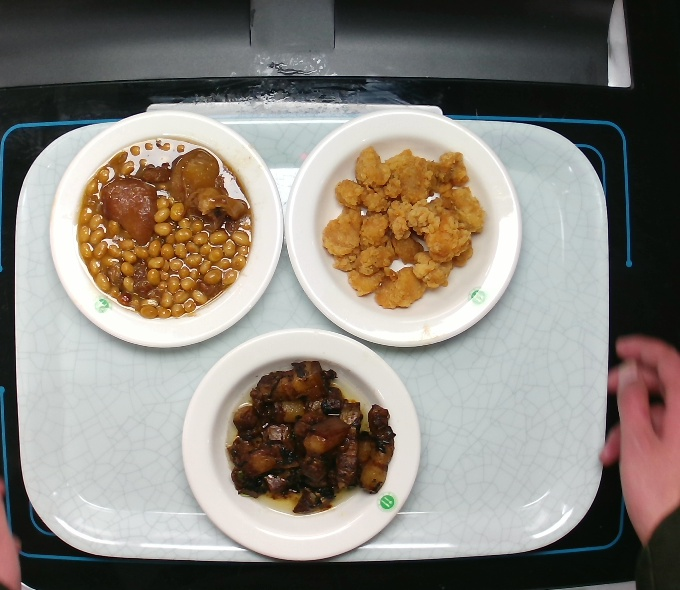wcq-GanCaiRou: (225, 355, 399, 519)
wcq-HuangDouZhuJiao: (70, 133, 263, 324)
wcq-JiMiHua: (313, 138, 489, 314)
